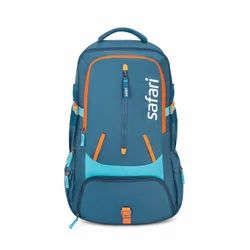backpack: (63, 26, 184, 228)
